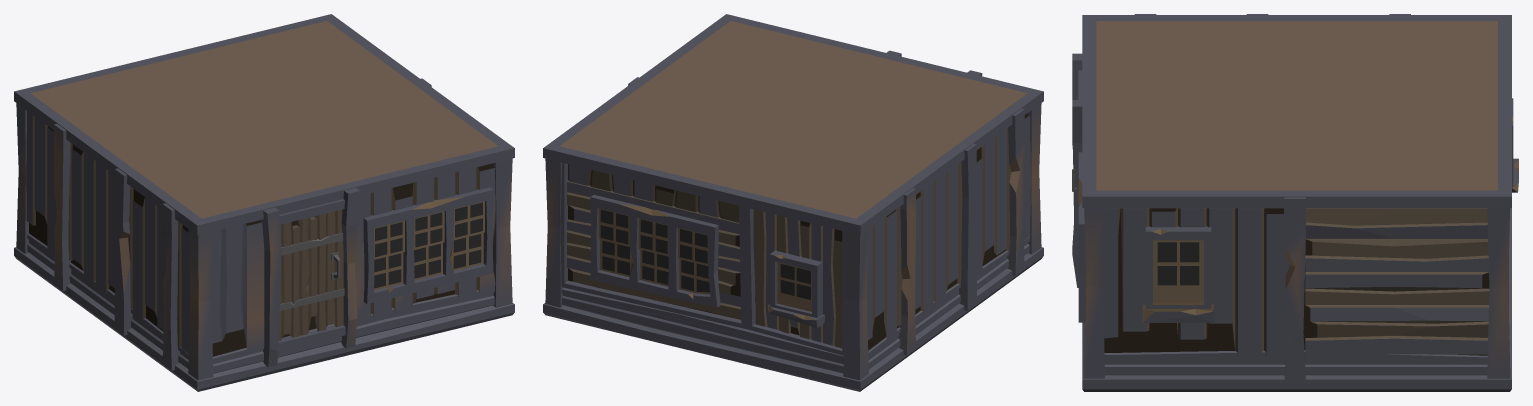
File: SM_Bld_Shanty_Room_03.glb
3 views of the same model, side by side, from view 1: azimuth 30°, elevation 25°; view 2: azimuth 150°, elevation 25°; view 3: azimuth 270°, elevation 25° (orthographic). The views are drawn at different scales.
Visible parts, largest first — view 1: SM_Bld_Shanty_Room_03; view 2: SM_Bld_Shanty_Room_03; view 3: SM_Bld_Shanty_Room_03.
Boxes of the visible parts, box(x1,y1,x2,y2) form: SM_Bld_Shanty_Room_03: box(14, 14, 514, 391); SM_Bld_Shanty_Room_03: box(543, 14, 1043, 391); SM_Bld_Shanty_Room_03: box(1072, 14, 1518, 391).
Bounding box in the file's own units: 0.0519 × 0.0252 × 0.052.
